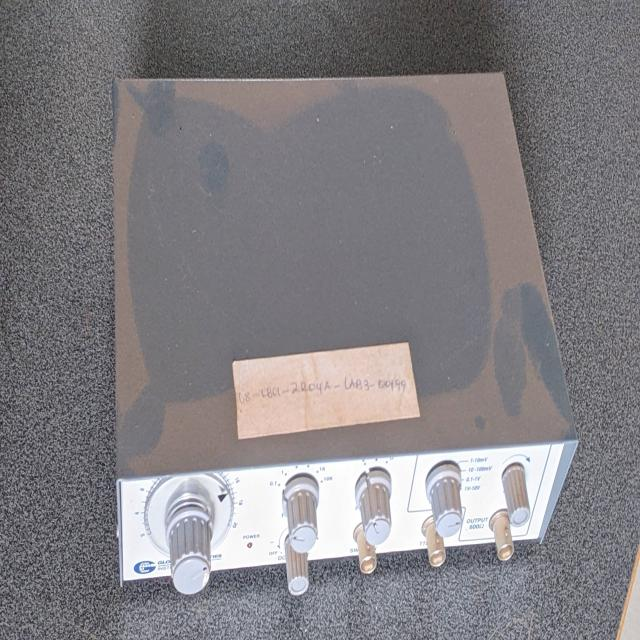A 200KHZ Function Generator: (110, 57, 579, 606)
